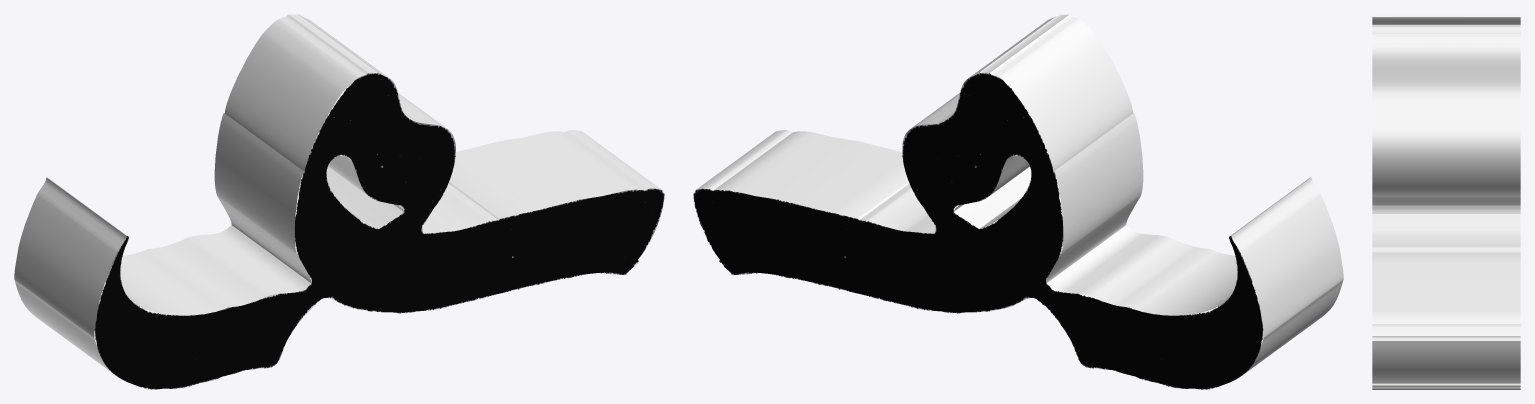
Rendered from moala.obj.
The picture shows the model from 3 angles, left to right: view 1: azimuth 30°, elevation 25°; view 2: azimuth 150°, elevation 25°; view 3: azimuth 270°, elevation 25°; orthographic projection. The views are drawn at different scales.
Bounding box in the file's own units: 1261 × 572 × 306.
Materials: 3 (3 with a texture image).
